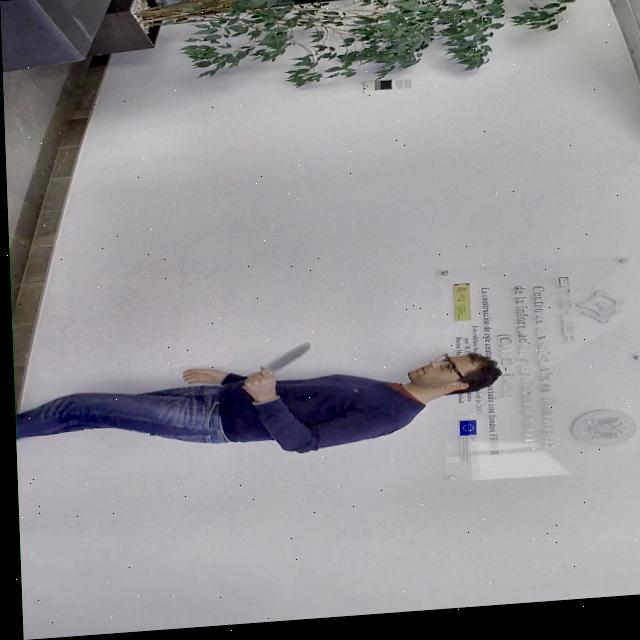knife: (256, 345, 309, 379)
